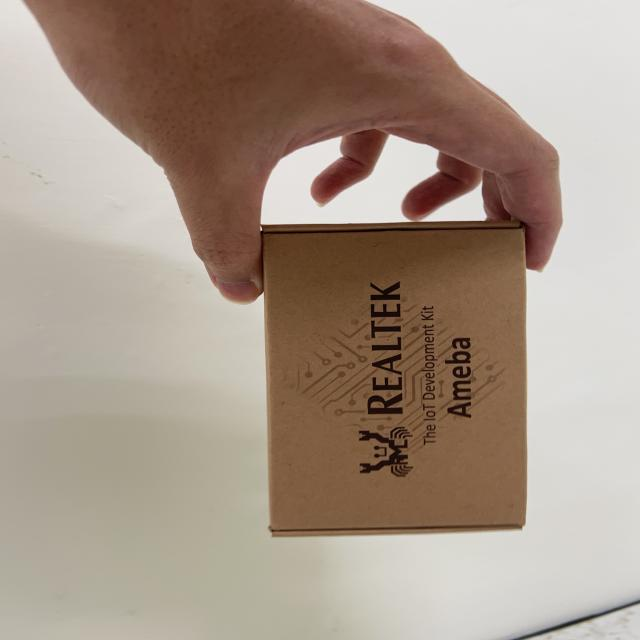box: (256, 206, 639, 555)
